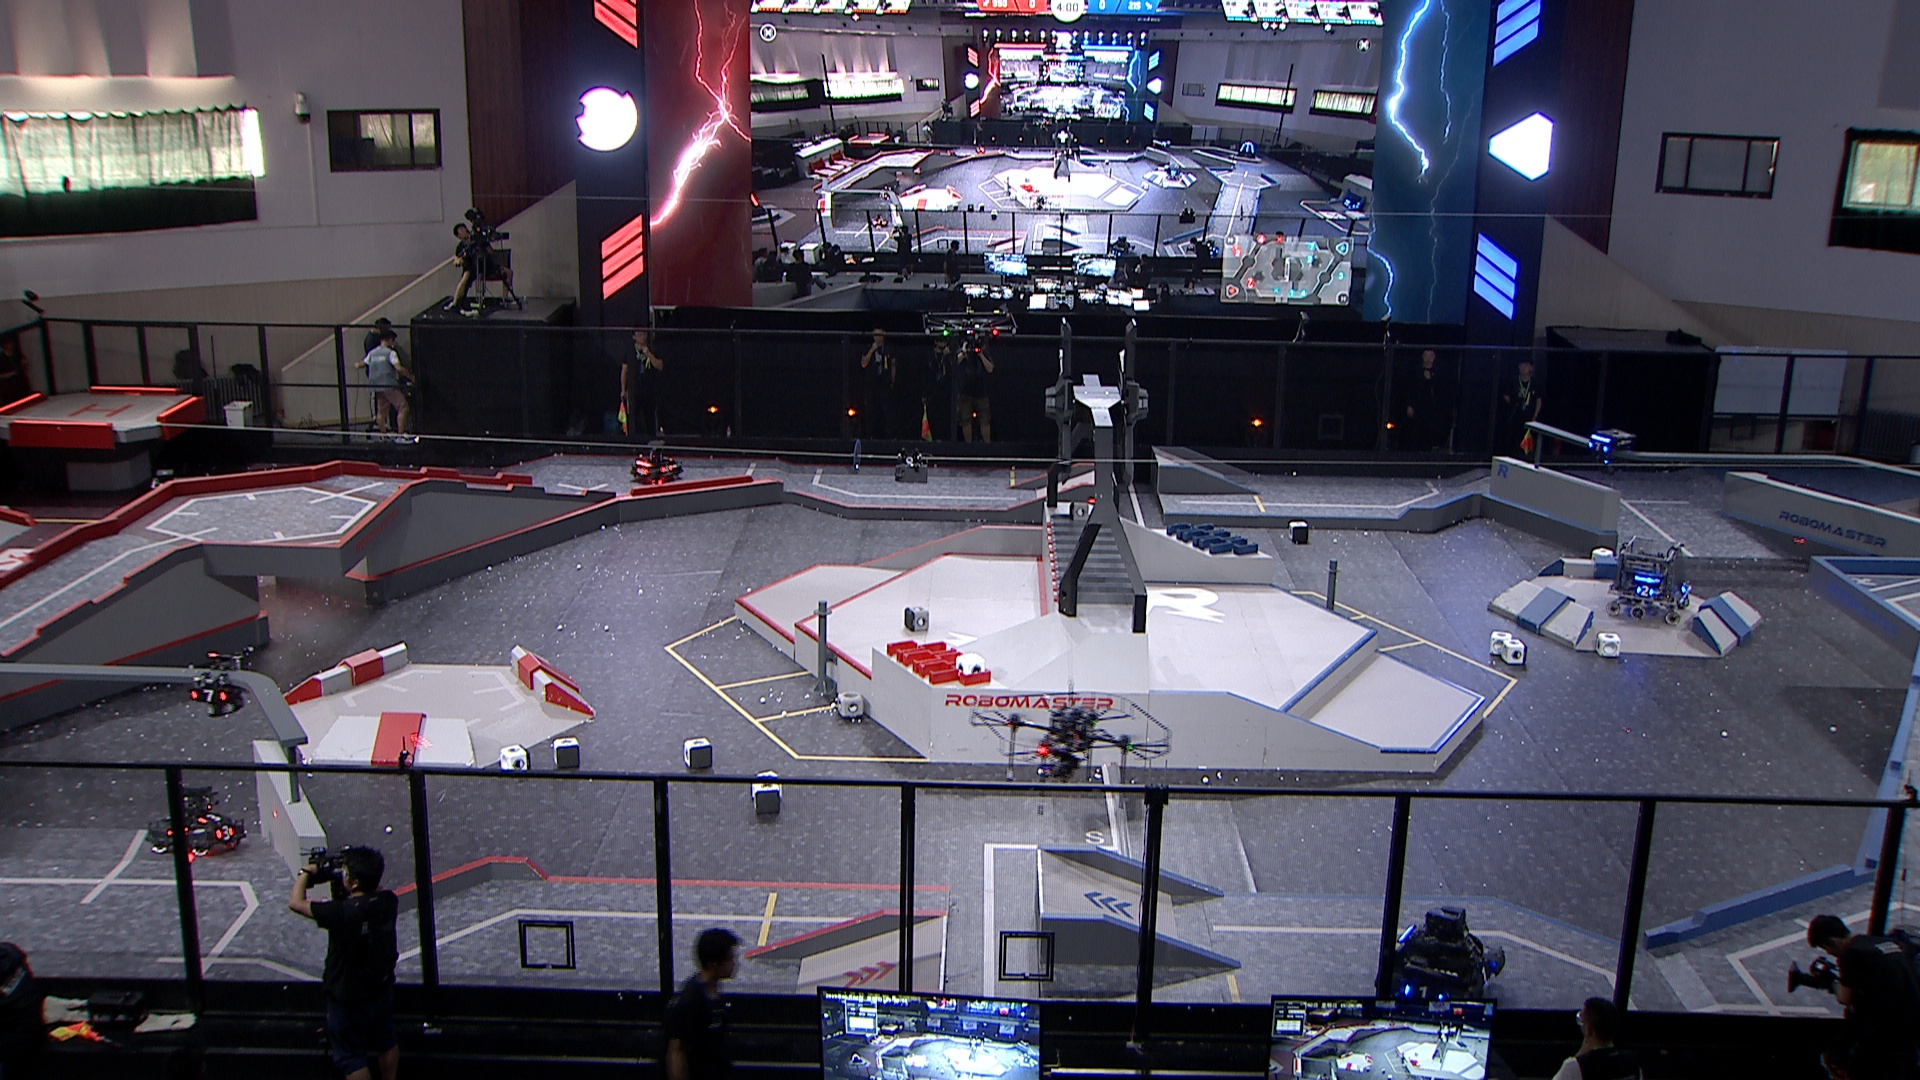armor: (1403, 982, 1447, 1004), (190, 687, 229, 705), (214, 822, 237, 844), (196, 811, 228, 825), (1474, 964, 1494, 986), (1588, 439, 1610, 455), (1636, 584, 1656, 600), (659, 462, 675, 475), (636, 465, 650, 479)
car: (1377, 905, 1505, 1015), (1607, 531, 1692, 626), (144, 782, 245, 858), (629, 438, 684, 488)
ignore: (1110, 237, 1138, 257), (749, 194, 769, 220), (1238, 138, 1258, 161), (1342, 195, 1362, 214), (870, 214, 891, 229), (1205, 237, 1220, 258), (1166, 162, 1183, 179), (880, 185, 895, 202), (1159, 138, 1174, 152), (973, 142, 988, 154)
watcher: (187, 651, 249, 717), (1586, 425, 1633, 465)
